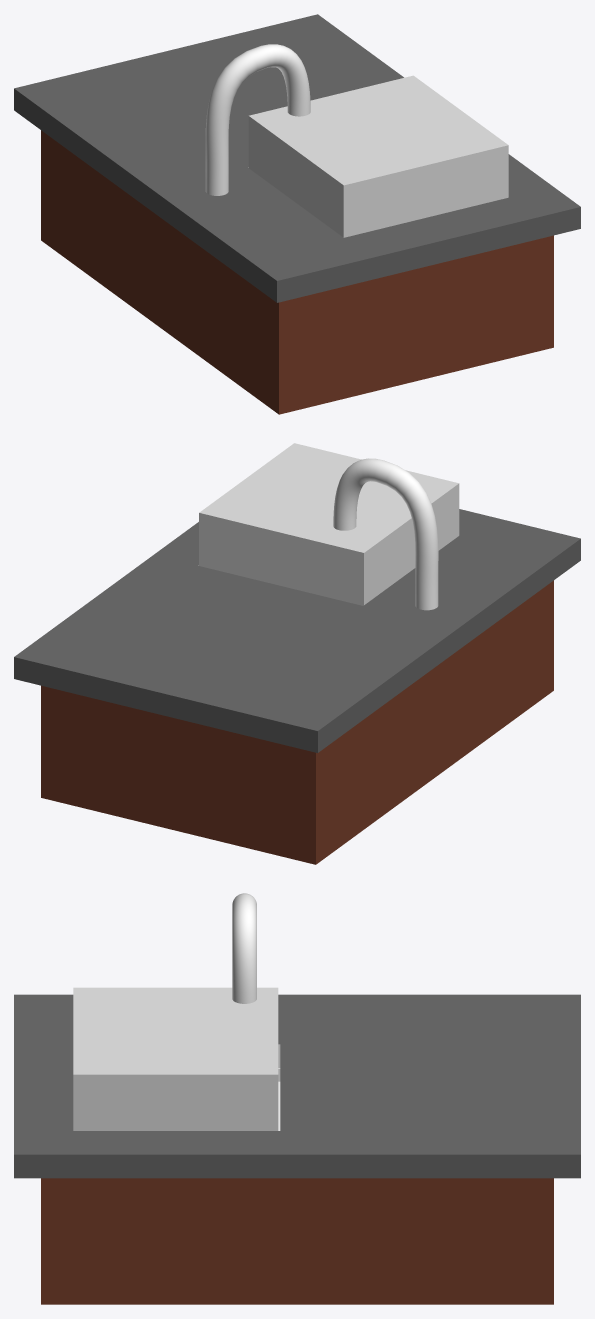
File: basin.fbx
3 renders of one model, top to bottom at view 1: azimuth 30°, elevation 25°; view 2: azimuth 150°, elevation 25°; view 3: azimuth 270°, elevation 25°, orthographic. The views are drawn at different scales.
Parts seen in each view (by area): view 1: WashBasin, Cube.001; view 2: WashBasin, Cube.001; view 3: WashBasin, Cube.001.
Part boxes in pixels (box(x1,y1,x2,y2)): WashBasin: box(14, 14, 580, 414); Cube.001: box(248, 75, 508, 237); WashBasin: box(14, 458, 580, 864); Cube.001: box(199, 443, 459, 605); WashBasin: box(14, 893, 580, 1304); Cube.001: box(73, 987, 278, 1130).
Size of the model in its own units: 221 by 194 by 332.
